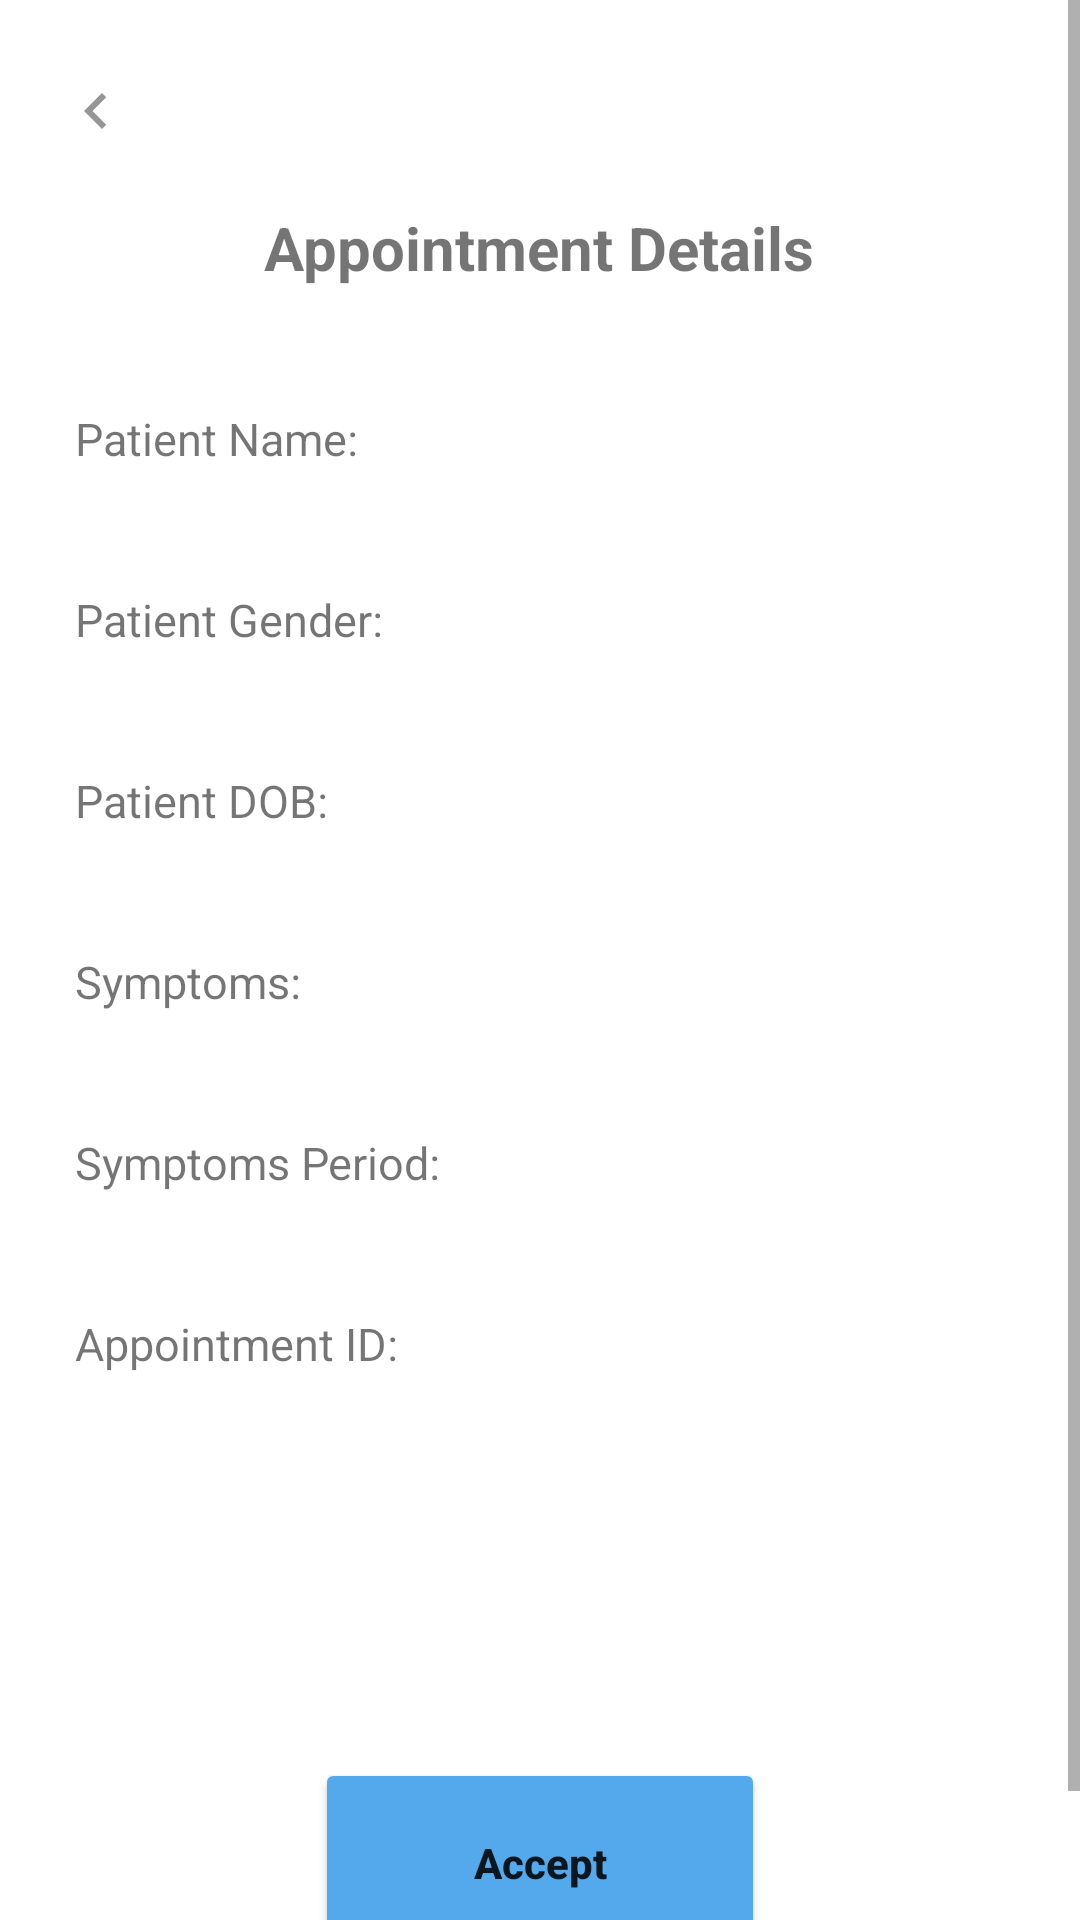

Icons on this 1080 × 1920 Android screen, each with the point to tap as [x,y]:
back: [95,111]
